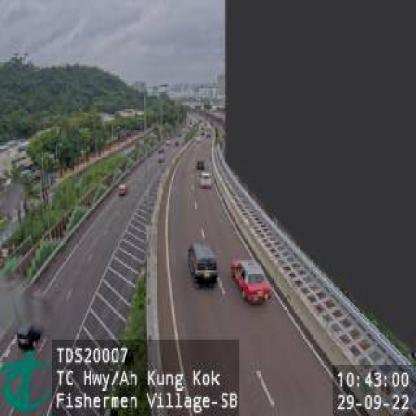Car: (229, 253, 274, 303), (186, 243, 218, 291), (16, 316, 44, 353), (196, 168, 216, 191), (116, 182, 130, 198), (196, 158, 207, 170)
